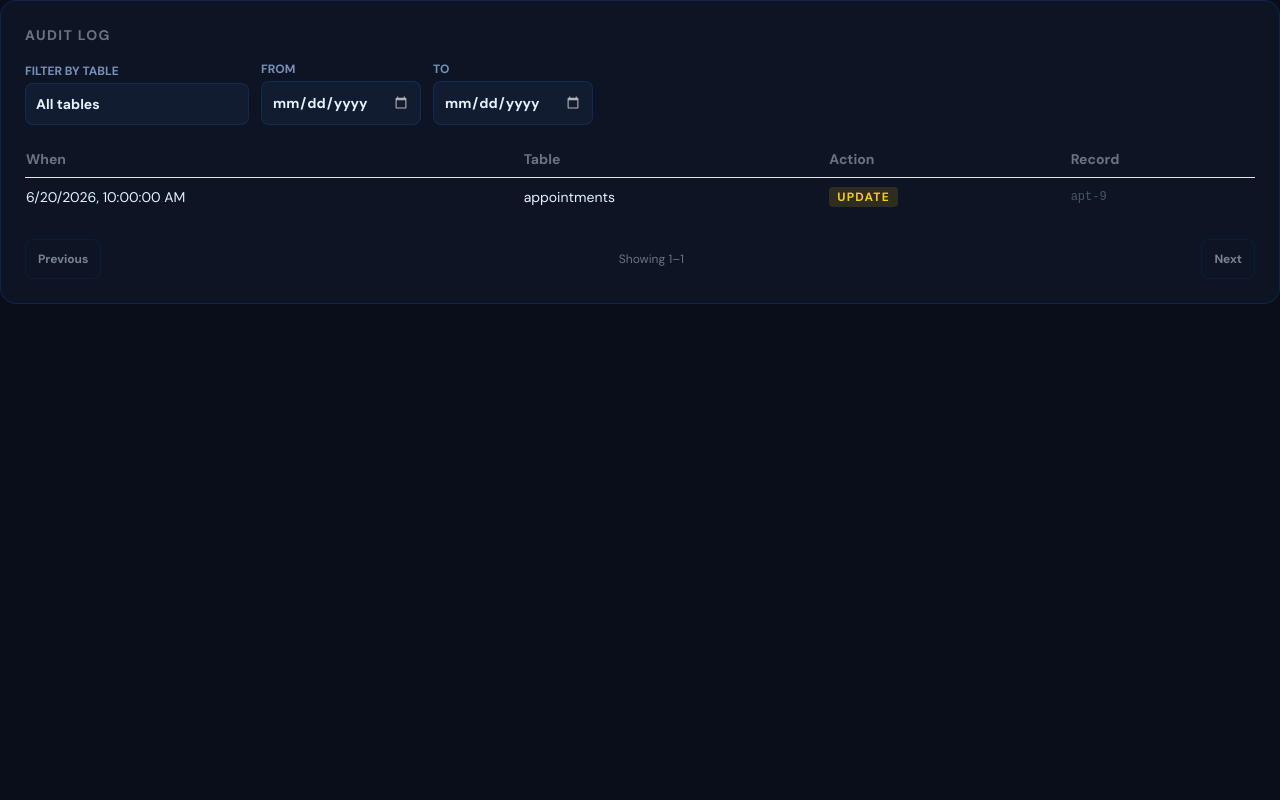
Test case: AuditLogView › HAPPY: clicking a row opens a drill-down showing the old→new field diff
Click the text "appointments" at (569, 196), box [523,178,828,215]
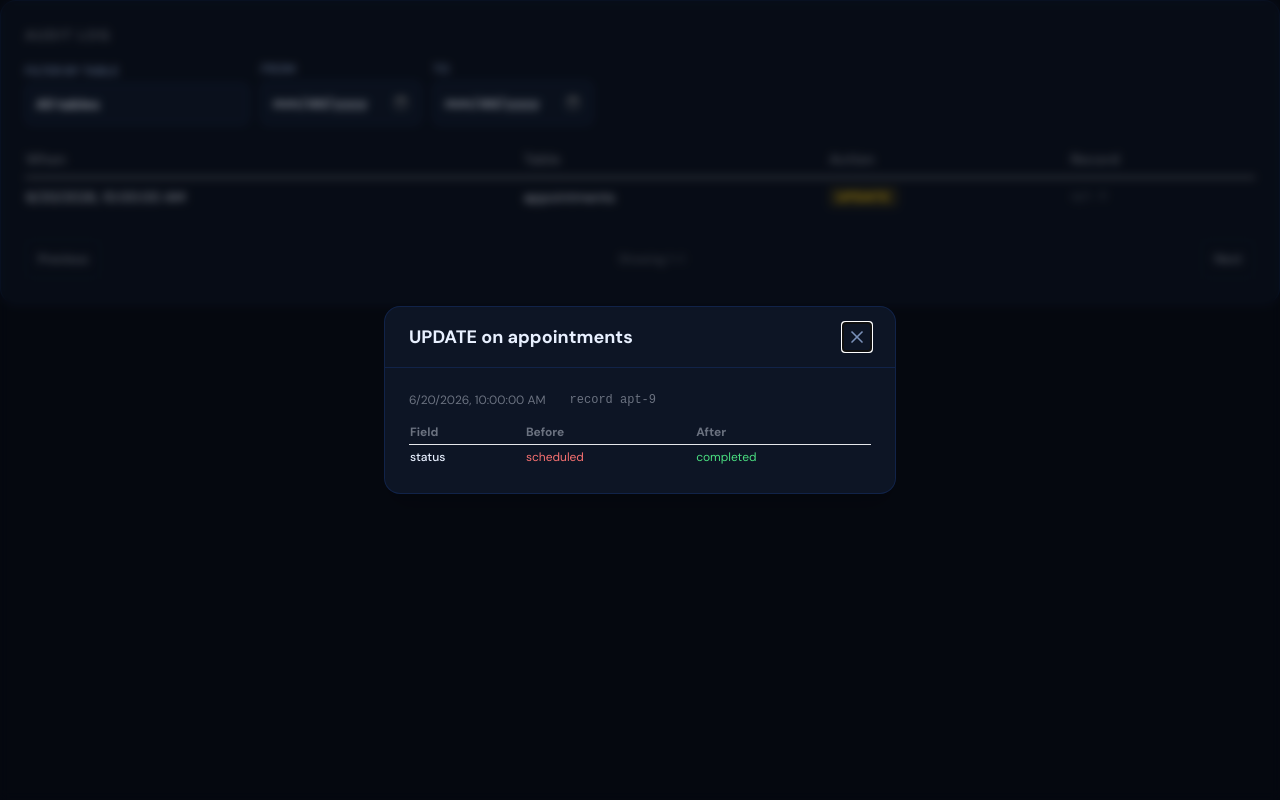
expect the heading "UPDATE on appointments" is shown: met, box [409,323,633,351]
expect the text "status" is shown: met, box [409,444,525,469]
expect the text "scheduled" is shown: met, box [525,444,695,469]
